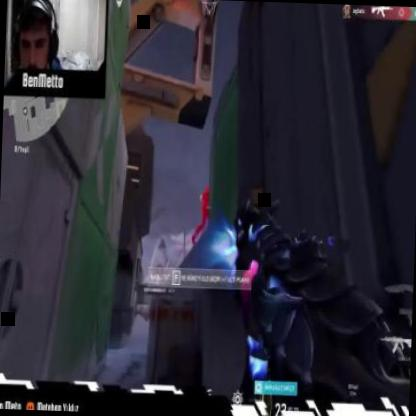enemy: (192, 186, 218, 245)
enemy_head: (204, 186, 210, 196)
